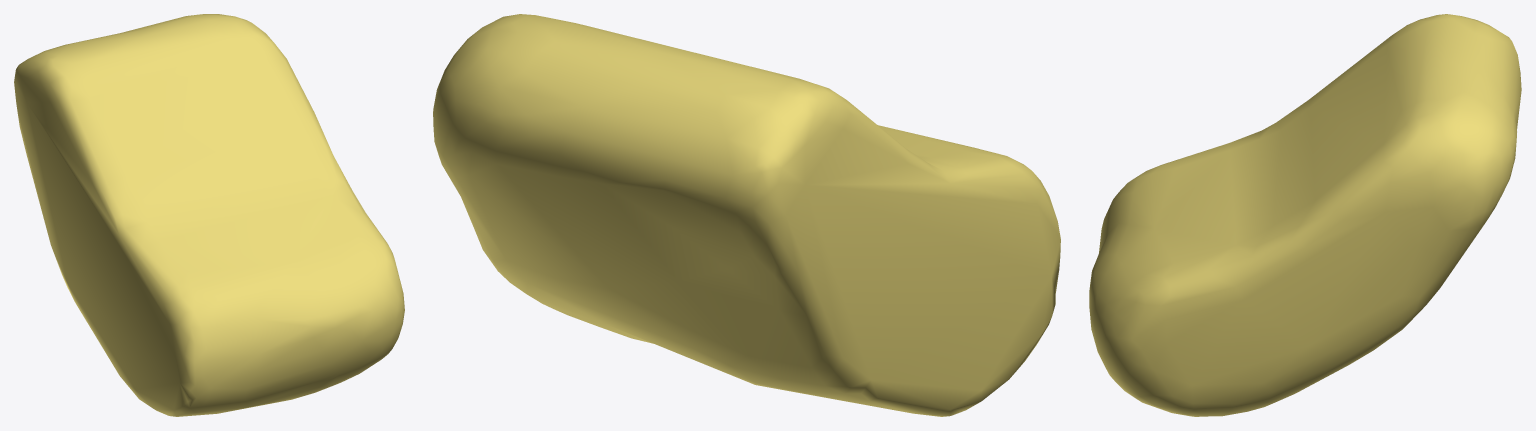
File: optic-chiasm-l.glb
3 views of the same model, side by side, from view 1: azimuth 30°, elevation 25°; view 2: azimuth 150°, elevation 25°; view 3: azimuth 270°, elevation 25° (orthographic). The views are drawn at different scales.
Visible parts, largest first — view 1: Optic chiasm.l; view 2: Optic chiasm.l; view 3: Optic chiasm.l.
Part boxes in pixels (x1=…): Optic chiasm.l: x1=14, y1=14, x2=404, y2=416; Optic chiasm.l: x1=433, y1=14, x2=1060, y2=416; Optic chiasm.l: x1=1089, y1=14, x2=1521, y2=416.
Bounding box in the file's own units: 0.00711 × 0.00785 × 0.01.
